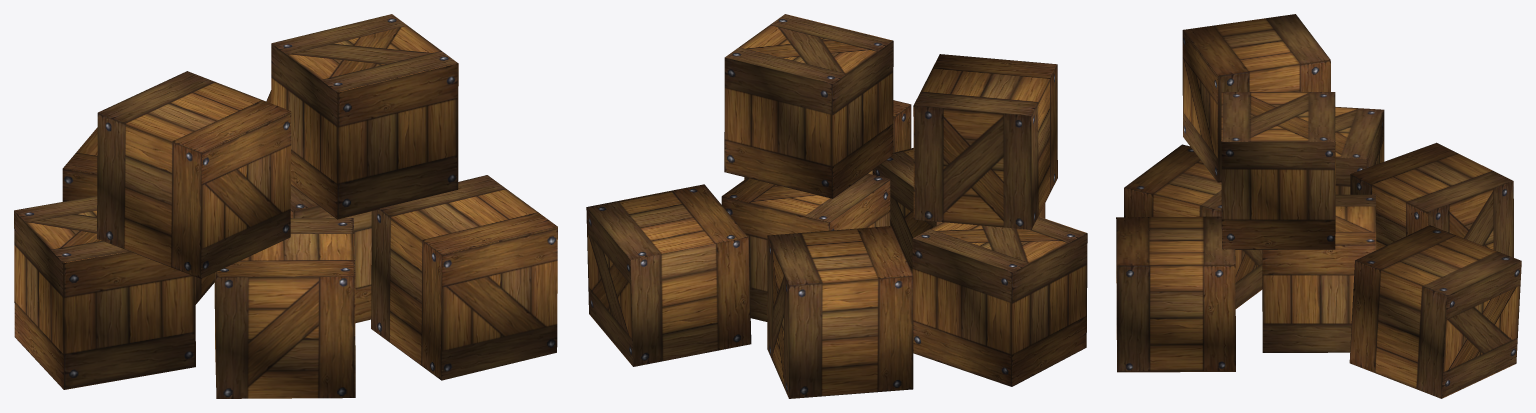
The model's file is WoodBox1.fbx.
The picture shows the model from 3 angles, left to right: view 1: azimuth 30°, elevation 25°; view 2: azimuth 150°, elevation 25°; view 3: azimuth 270°, elevation 25°; orthographic projection. The views are drawn at different scales.
Visible parts, largest first — view 1: Caja de Madera 014, Caja de Madera 013, Caja de Madera 015, Caja de Madera 009, Caja de Madera 012, Caja de Madera 011, Caja de Madera 010; view 2: Caja de Madera 015, Caja de Madera 009, Caja de Madera 016, Caja de Madera 010, Caja de Madera 014, Caja de Madera 011, Caja de Madera 012, Caja de Madera 013; view 3: Caja de Madera 016, Caja de Madera 013, Caja de Madera 015, Caja de Madera 014, Caja de Madera 010, Caja de Madera 011, Caja de Madera 012, Caja de Madera 009.
Part boxes in pixels (x1=…): Caja de Madera 014: x1=97, y1=71, x2=291, y2=278; Caja de Madera 013: x1=371, y1=175, x2=557, y2=380; Caja de Madera 015: x1=271, y1=14, x2=458, y2=219; Caja de Madera 009: x1=14, y1=196, x2=195, y2=389; Caja de Madera 012: x1=214, y1=218, x2=355, y2=398; Caja de Madera 011: x1=290, y1=185, x2=371, y2=323; Caja de Madera 010: x1=62, y1=127, x2=214, y2=304; Caja de Madera 015: x1=724, y1=14, x2=893, y2=198; Caja de Madera 009: x1=912, y1=216, x2=1087, y2=386; Caja de Madera 016: x1=586, y1=184, x2=751, y2=366; Caja de Madera 010: x1=767, y1=226, x2=913, y2=398; Caja de Madera 014: x1=913, y1=54, x2=1057, y2=229; Caja de Madera 011: x1=721, y1=173, x2=890, y2=321; Caja de Madera 012: x1=872, y1=148, x2=1045, y2=272; Caja de Madera 013: x1=744, y1=100, x2=911, y2=179; Caja de Madera 016: x1=1349, y1=225, x2=1521, y2=398; Caja de Madera 013: x1=1116, y1=216, x2=1235, y2=372; Caja de Madera 015: x1=1221, y1=92, x2=1335, y2=249; Caja de Madera 014: x1=1182, y1=14, x2=1330, y2=182; Caja de Madera 010: x1=1350, y1=142, x2=1513, y2=257; Caja de Madera 011: x1=1262, y1=194, x2=1376, y2=352; Caja de Madera 012: x1=1124, y1=144, x2=1262, y2=308; Caja de Madera 009: x1=1335, y1=107, x2=1384, y2=194.
Size of the model in its own units: 2.68 by 2.44 by 1.49.
